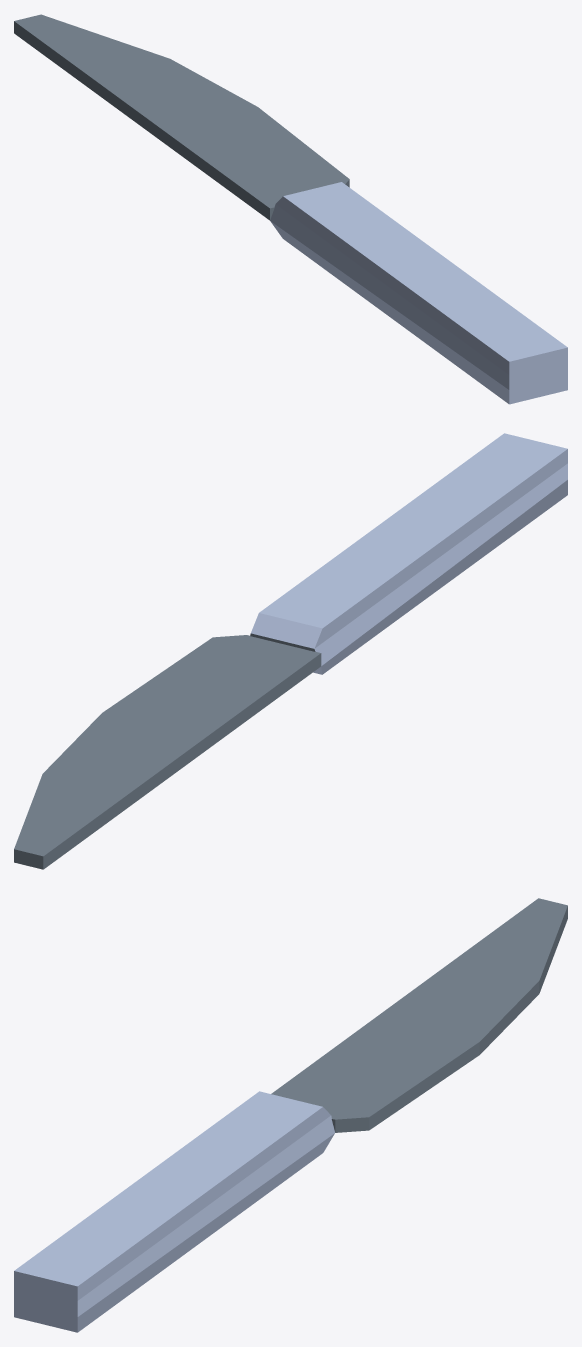
The model's file is CutleryKnifeBig.fbx.
3 views of the same model, one above another, from view 1: azimuth 30°, elevation 25°; view 2: azimuth 150°, elevation 25°; view 3: azimuth 330°, elevation 25° (orthographic). The views are drawn at different scales.
Parts seen in each view (by area): view 1: CutleryKnifeBig; view 2: CutleryKnifeBig; view 3: CutleryKnifeBig.
Boxes of the visible parts, x1,y1,x2,y2 form: CutleryKnifeBig: [14, 14, 567, 404]; CutleryKnifeBig: [14, 433, 567, 869]; CutleryKnifeBig: [14, 898, 567, 1332].
Bounding box in the file's own units: 15.36 × 6.6 × 137.
